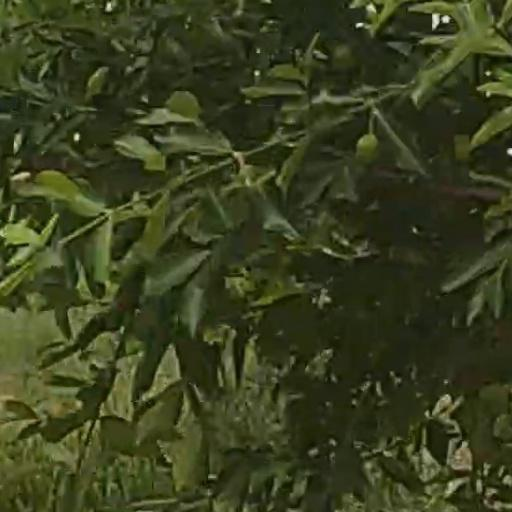acerola_verde: (357, 135, 376, 161)
